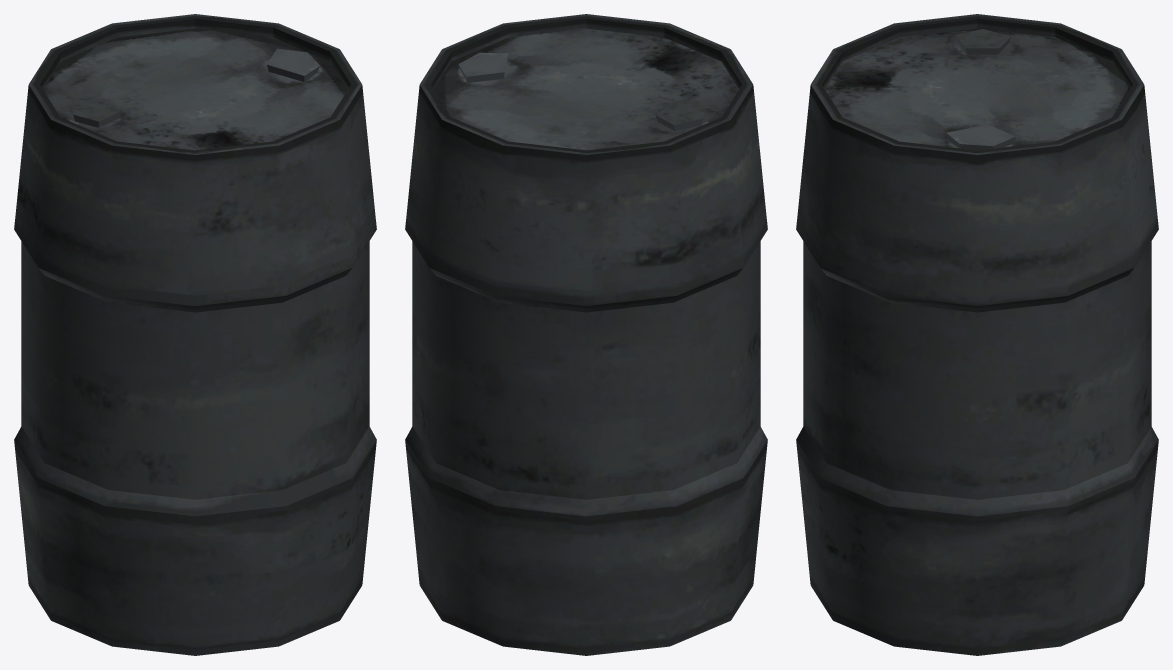
File: OBJ_PlasticBarrelA_Prefab.glb
The picture shows the model from 3 angles, left to right: view 1: azimuth 30°, elevation 25°; view 2: azimuth 150°, elevation 25°; view 3: azimuth 270°, elevation 25°; orthographic projection.
Visible parts, largest first — view 1: OBJ_PlasticBarrelA_LOD0; view 2: OBJ_PlasticBarrelA_LOD0; view 3: OBJ_PlasticBarrelA_LOD0.
Boxes of the visible parts, x1,y1,x2,y2 form: OBJ_PlasticBarrelA_LOD0: [14, 14, 376, 655]; OBJ_PlasticBarrelA_LOD0: [405, 14, 767, 655]; OBJ_PlasticBarrelA_LOD0: [796, 14, 1158, 655].
Size of what is drawn, in the model's own units: 0.8794 by 1.34 by 0.8794.
Materials: 1 (1 with a texture image).
